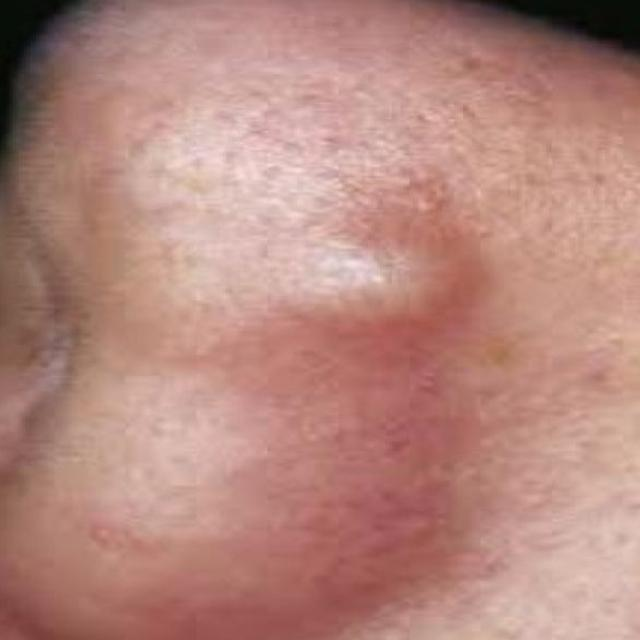nodule: (228, 176, 570, 371)
